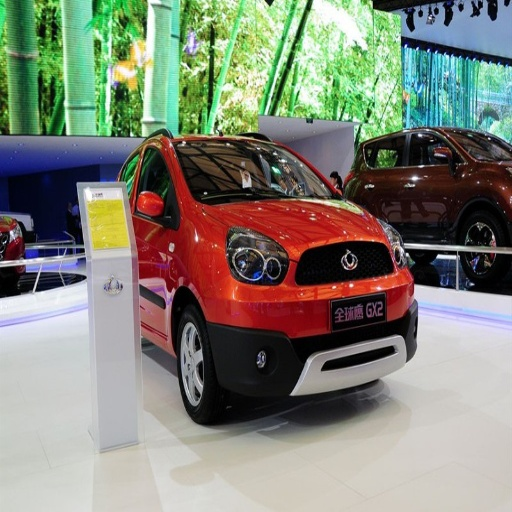front_bumper: (207, 243, 415, 400)
front_right_door: (115, 140, 175, 334)
front_right_light: (226, 230, 288, 284)
